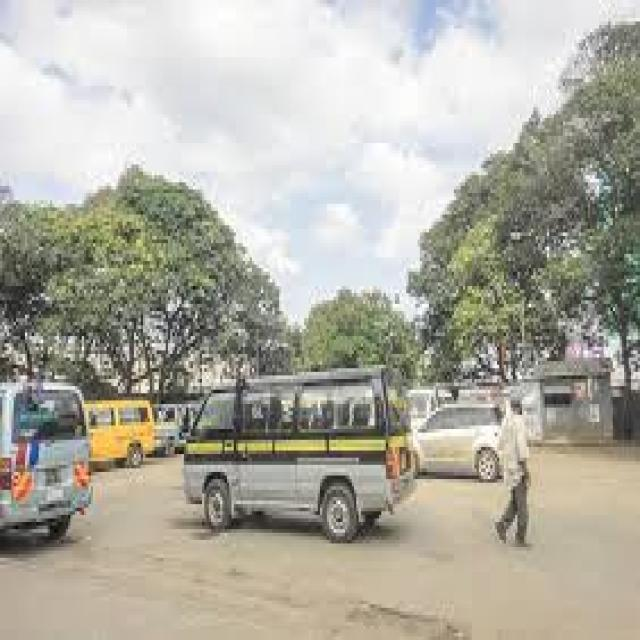matatu: (172, 366, 426, 565), (0, 364, 109, 546), (119, 378, 165, 505)
